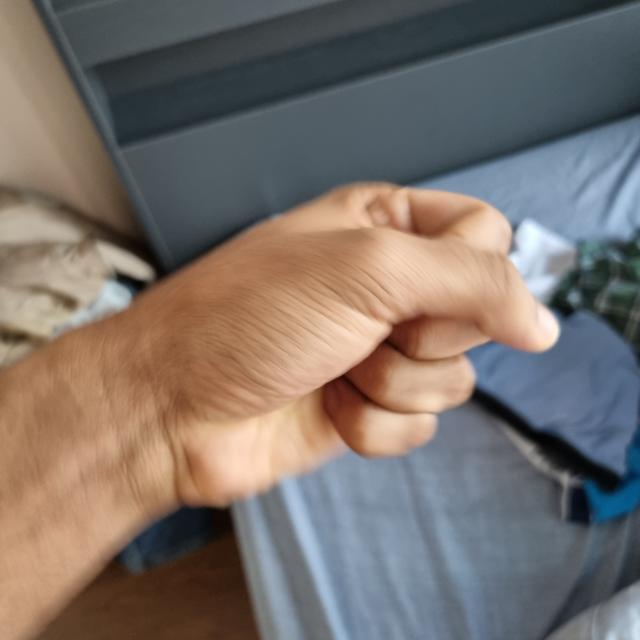Rock: (101, 183, 558, 509)
